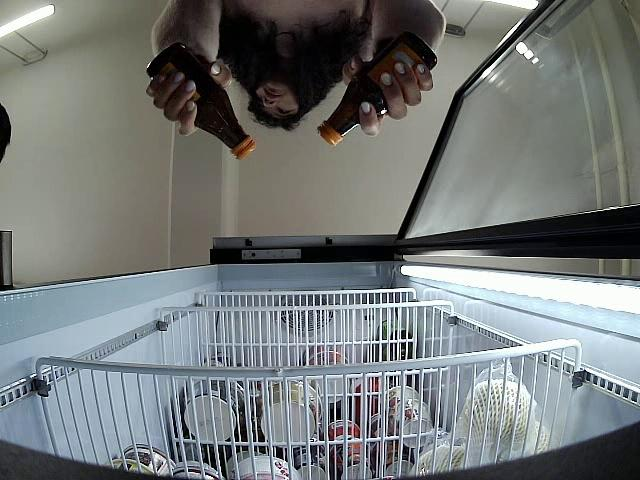00_hand: (341, 58, 433, 138), (145, 62, 231, 135)
17_vita500: (317, 34, 437, 147), (147, 44, 257, 162)
